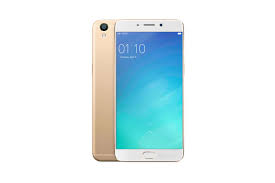oppo: (112, 16, 186, 165)
